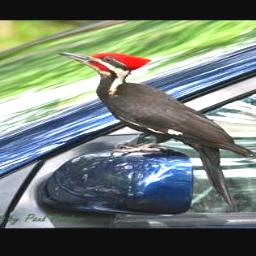Woodpecker: (54, 50, 256, 212)
